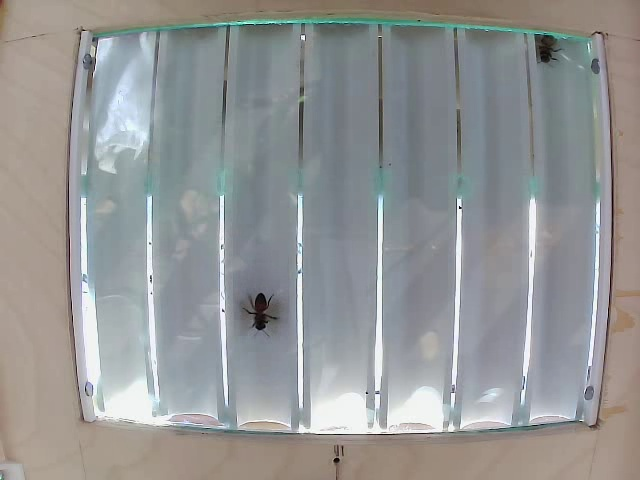bee: (246, 287, 277, 336)
